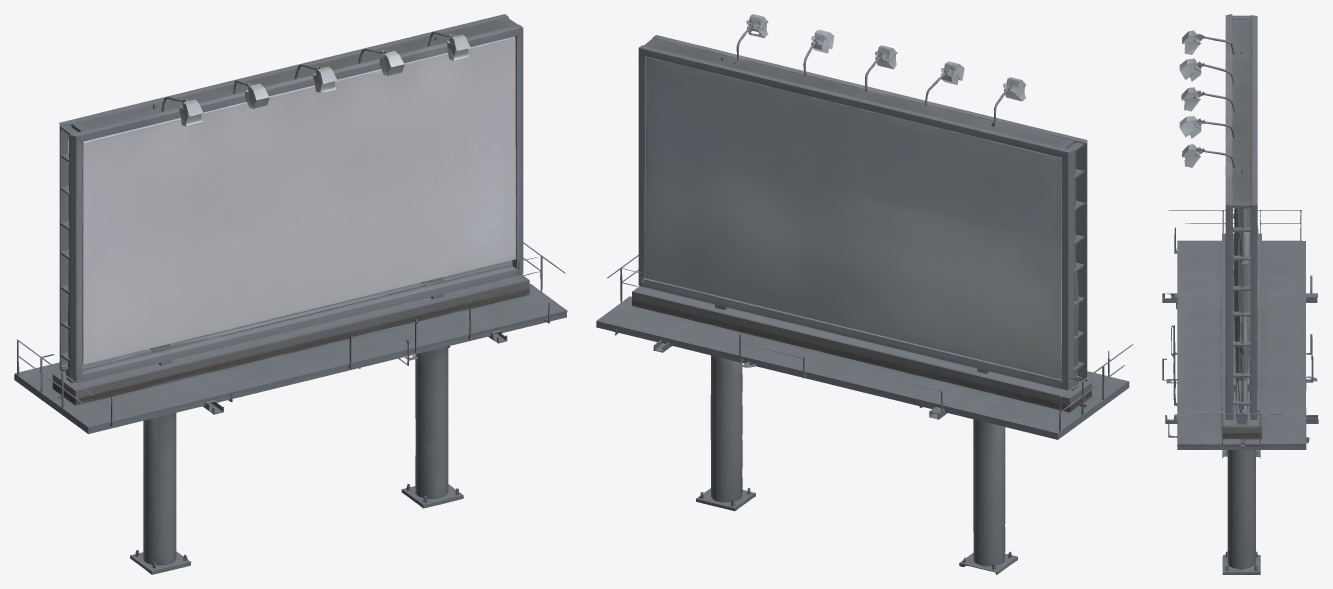
The model's file is decor-panneau.glb.
3 views of the same model, side by side, from view 1: azimuth 30°, elevation 25°; view 2: azimuth 150°, elevation 25°; view 3: azimuth 270°, elevation 25° (orthographic). The views are drawn at different scales.
Visible parts, largest first — view 1: model; view 2: model; view 3: model.
Boxes of the visible parts, x1,y1,x2,y2 form: model: (14, 14, 567, 574); model: (596, 14, 1133, 574); model: (1162, 14, 1318, 574).
Size of the model in its own units: 1.9 by 1.82 by 0.6148.
1 material, 1 textured.
